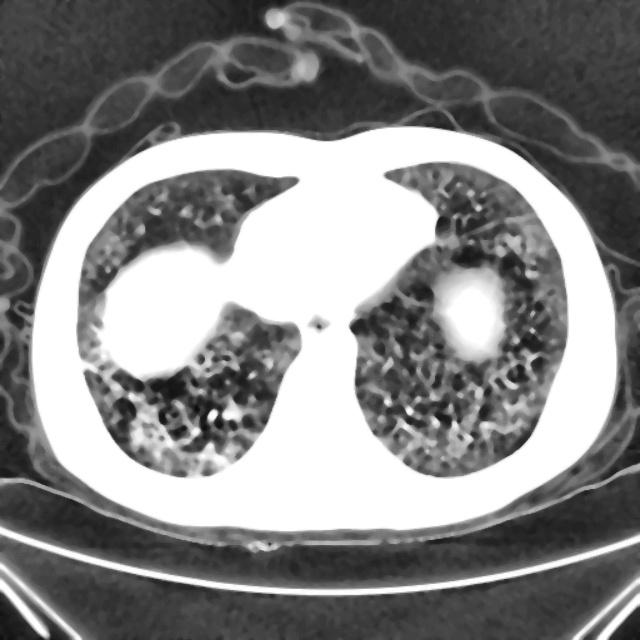covid: (33, 122, 624, 537)
